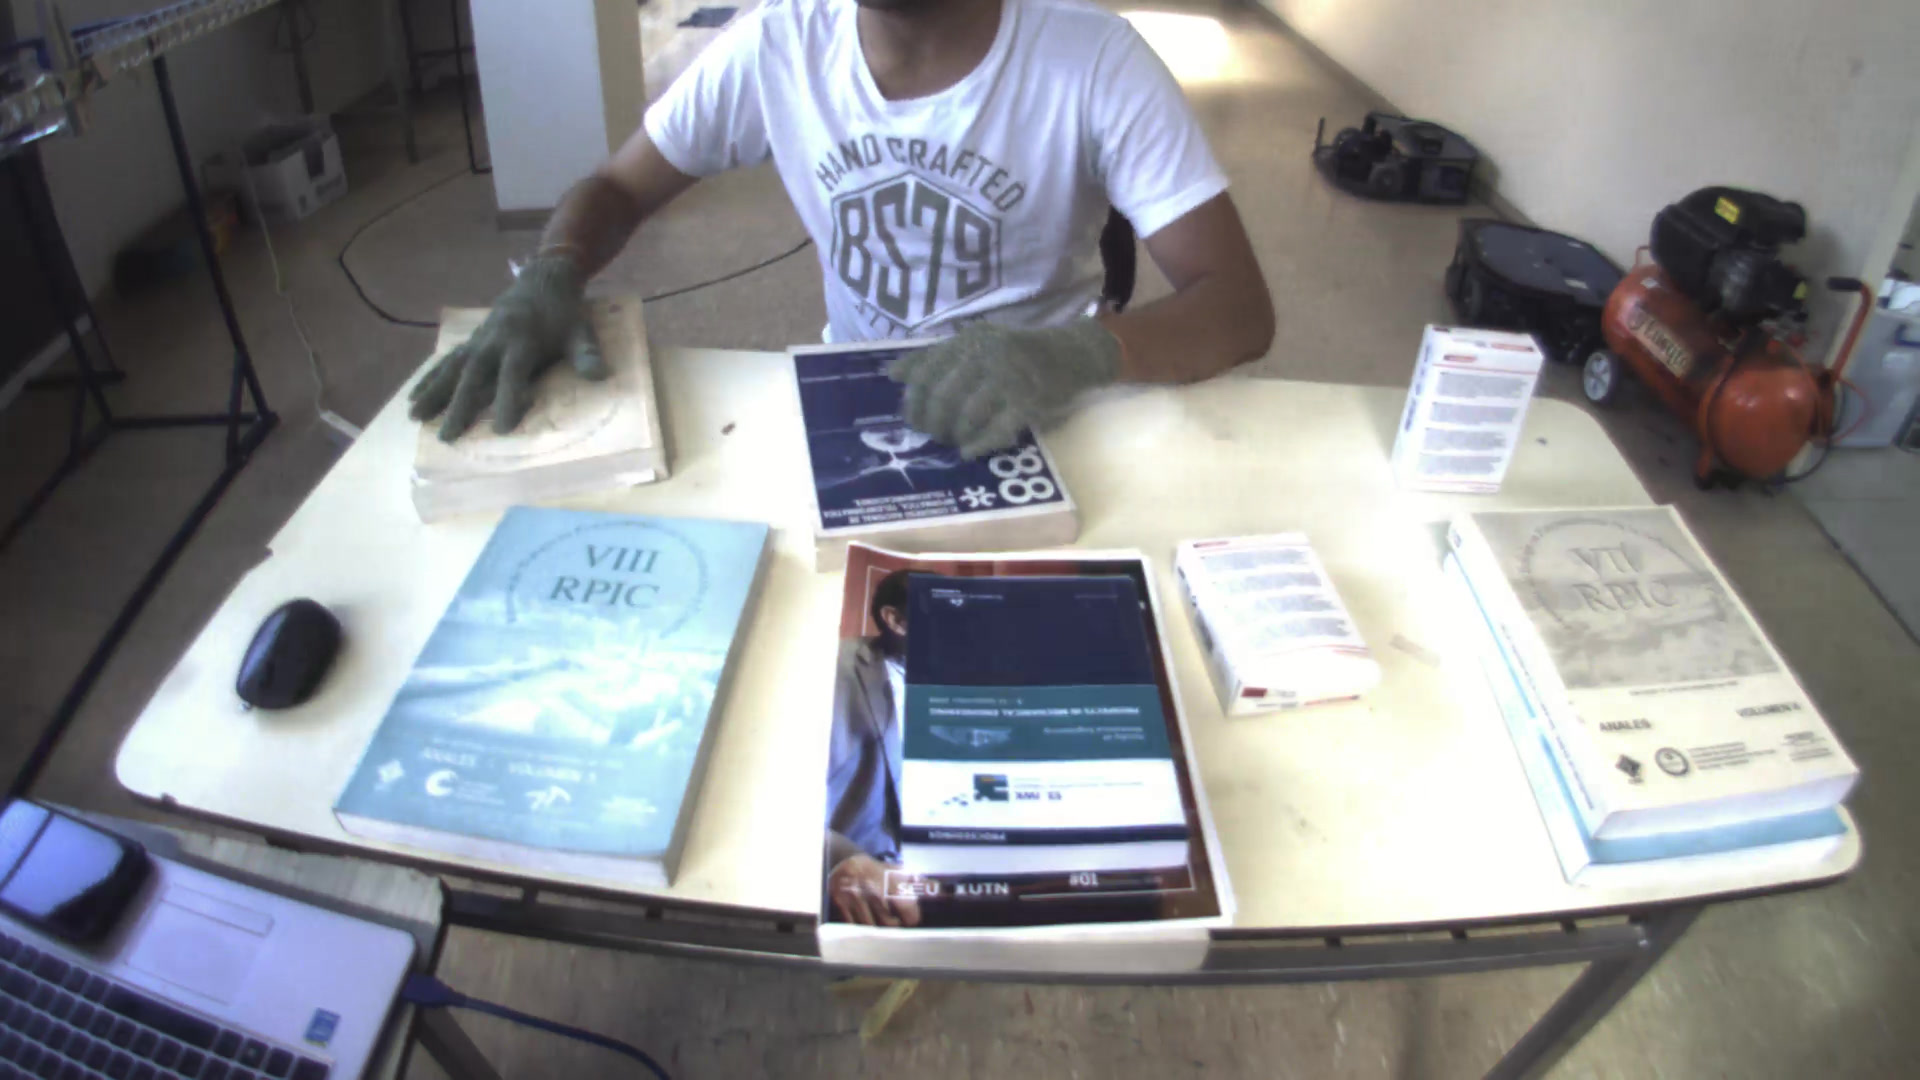hand: (396, 239, 603, 448), (880, 306, 1133, 456)
